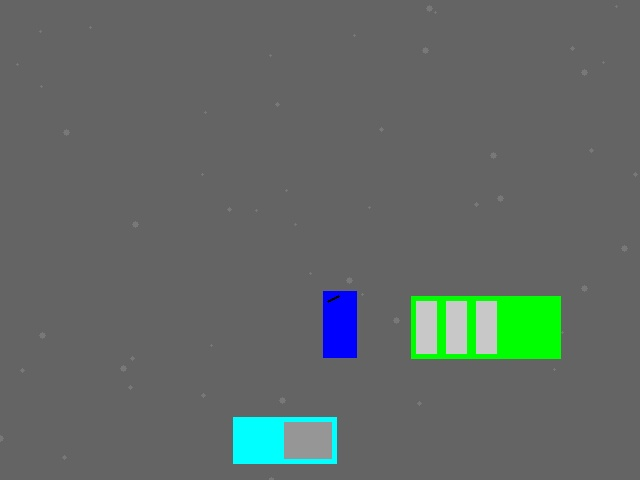bus: (411, 296, 560, 358)
motorcycle: (323, 291, 356, 357)
truck: (233, 417, 336, 463)
